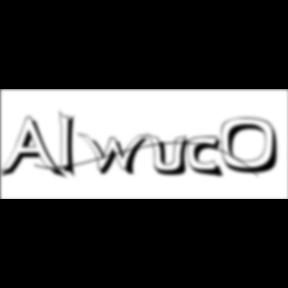A: (0, 116, 68, 182)
O: (222, 117, 286, 176)
c: (188, 136, 228, 180)
l: (60, 108, 83, 182)
u: (148, 132, 196, 178)
w: (78, 132, 156, 178)
